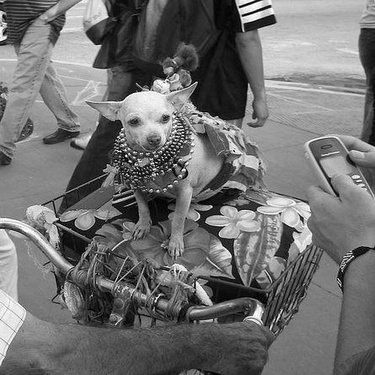dog: (73, 78, 268, 260)
